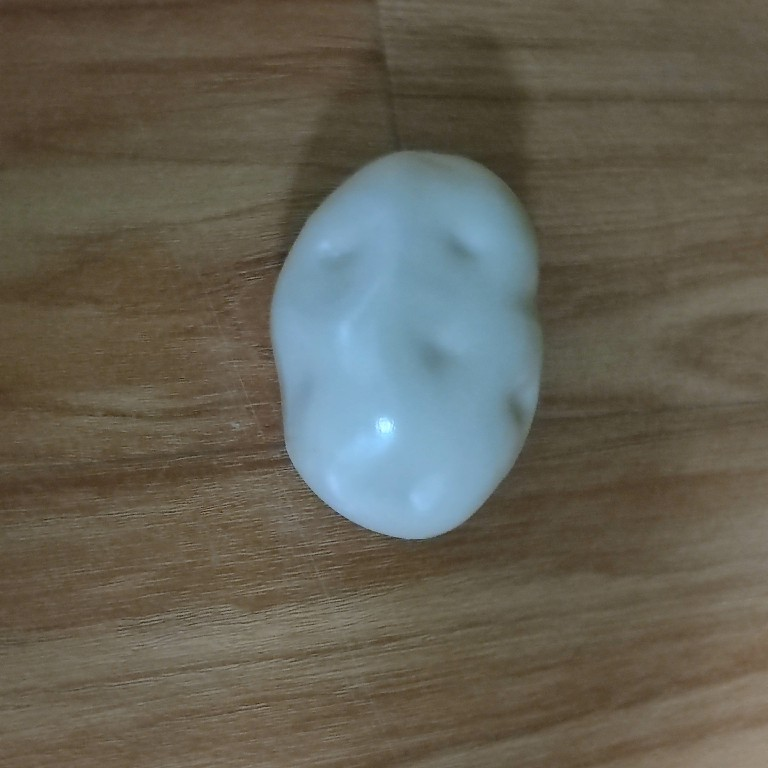fruit_potato: (264, 143, 550, 545)
